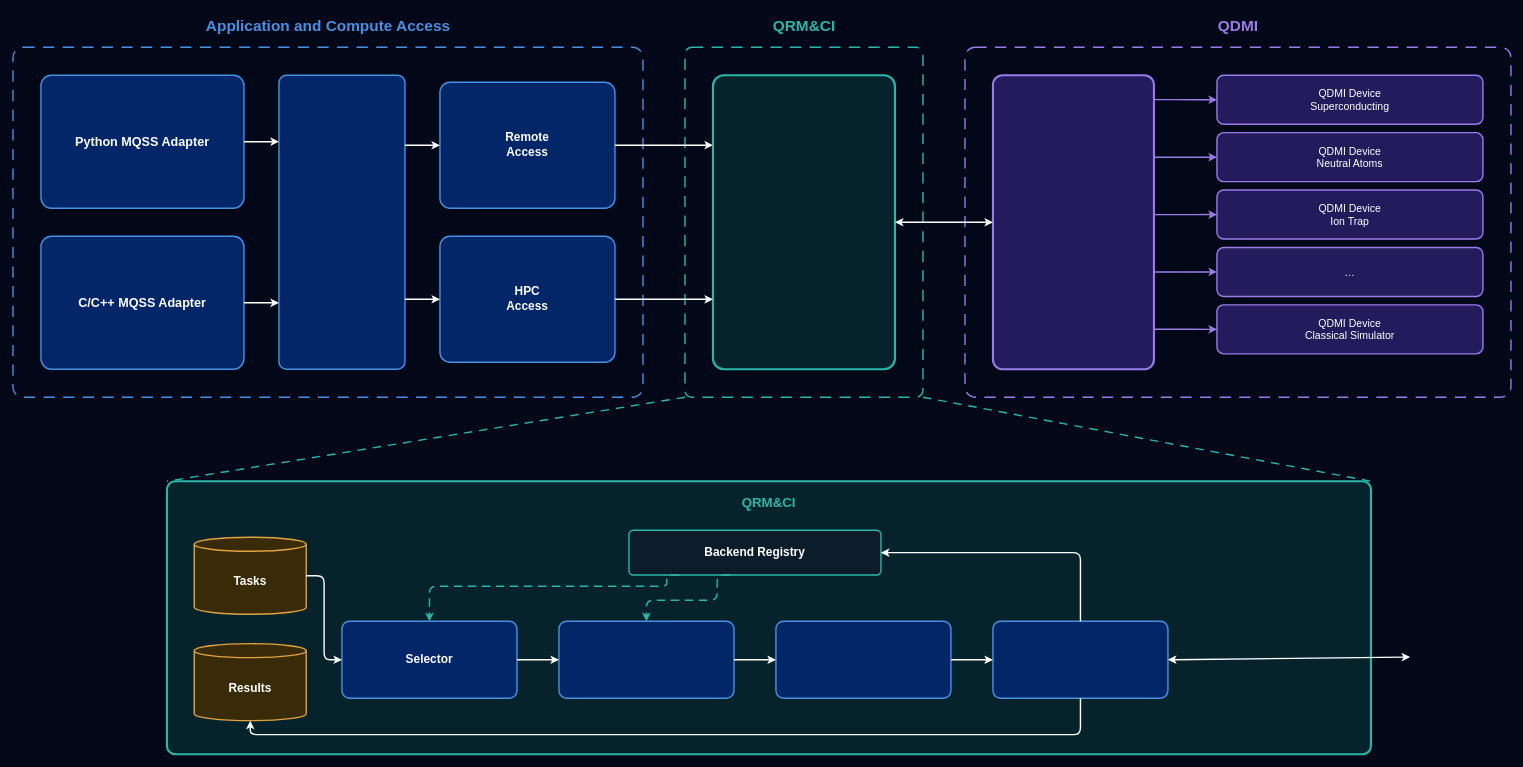
Image size: 1523x767. Some labels were removed from this diagram. Each missing label, with the box of its shape:
Compiler: (558, 620, 734, 699)
MQSS Client: (278, 74, 405, 370)
Quantum Device Management Interface (QDMI): (992, 74, 1155, 370)
Quantum Resource Manager and Compiler Infrastructure (QRM&CI): (712, 74, 896, 370)
Scheduler: (775, 620, 951, 699)
Submitter: (992, 620, 1168, 699)
